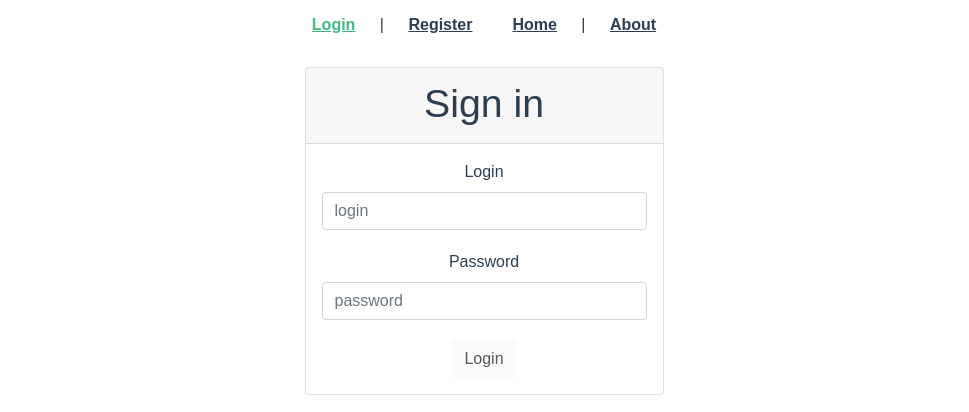
Test: Tests the Login page › tries to login as admin
The width and height of the screenshot is (969, 412).
Type "admin" into the field named "login" at (485, 211), box [322,192,647,230]
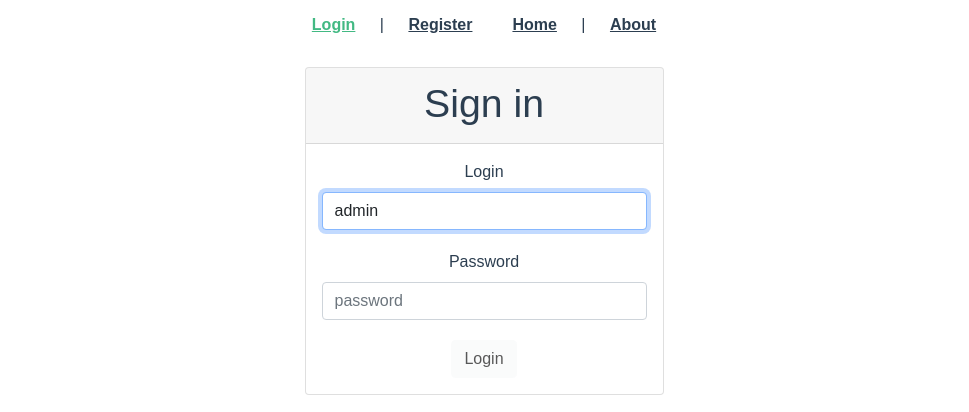
Type "admin" into the password field named "password" at (485, 301), box [322,282,647,320]
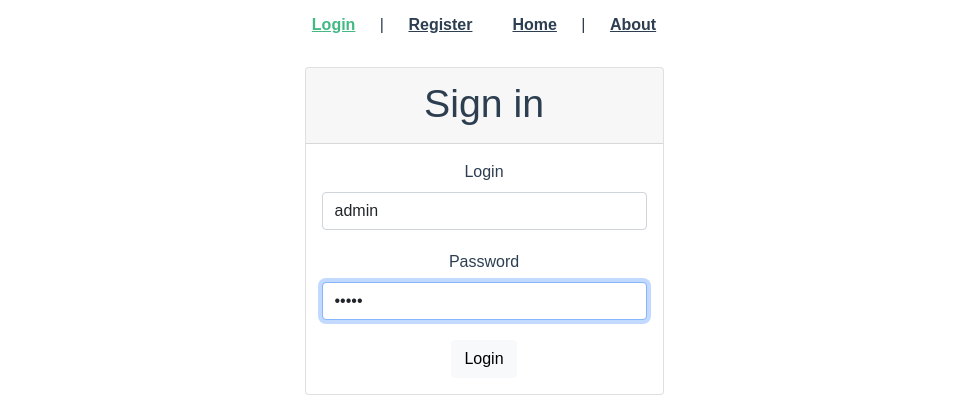
Click the button "Login" at (484, 359), box [451,340,516,378]
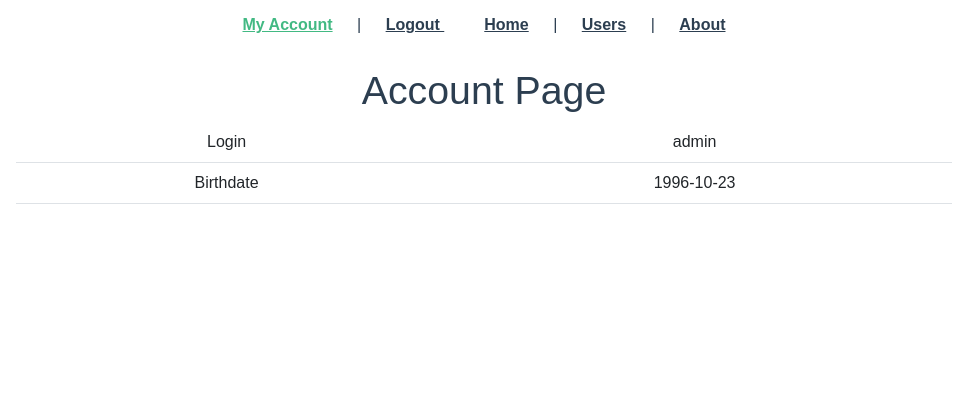
Now the link "Logout" is shown, box [386,16,444,33]
